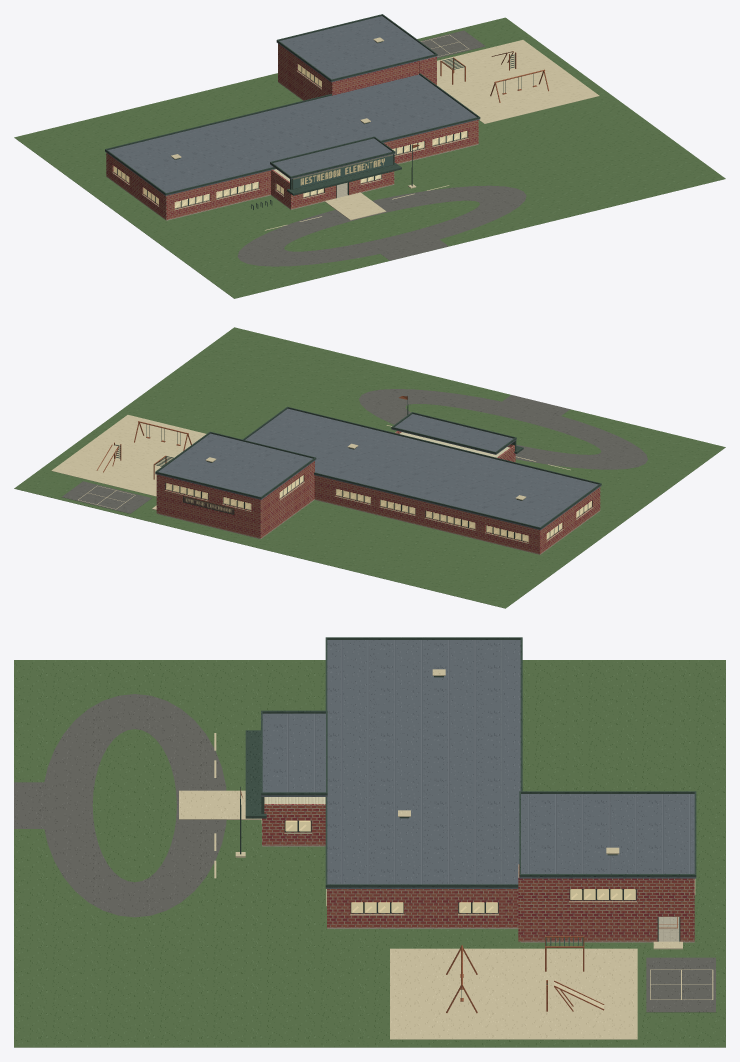
The model's file is westmeadow-1955.glb.
3 views of the same model, one above another, from view 1: azimuth 30°, elevation 25°; view 2: azimuth 150°, elevation 25°; view 3: azimuth 270°, elevation 25° (orthographic). The views are drawn at different scales.
Parts seen in each view (by area): view 1: lot, building_shell, sign_name; view 2: lot, building_shell; view 3: lot, building_shell.
Boxes of the visible parts, x1,y1,x2,y2 form: lot: (14, 17, 725, 298); building_shell: (105, 14, 480, 220); sign_name: (292, 154, 393, 189); lot: (14, 327, 725, 608); building_shell: (152, 406, 601, 554); lot: (14, 660, 725, 1047); building_shell: (245, 637, 696, 949).
Size of what is drawn, in the model's own units: 85 by 7.13 by 66.
Materials: 11 (11 with a texture image).
